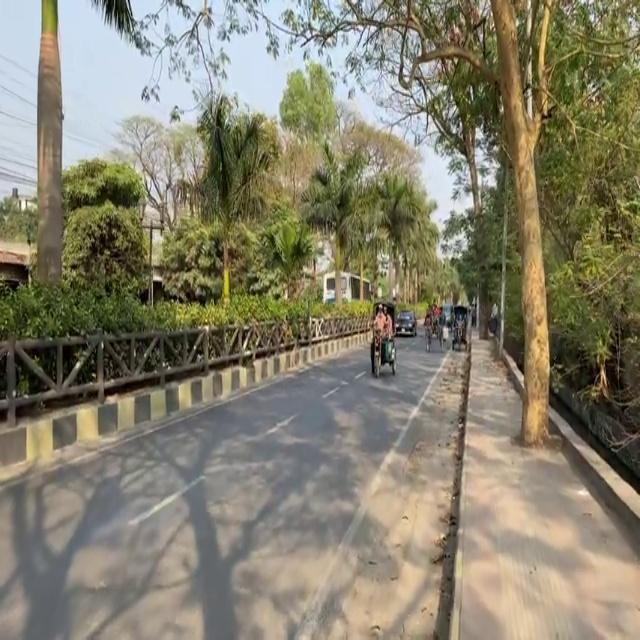Construction-barrier: (431, 326, 473, 639)
Fallen-tree: (369, 326, 397, 377), (422, 311, 444, 352)
Garbage-bin: (371, 303, 395, 364)
Light-pole: (485, 0, 551, 445), (34, 0, 64, 287)
Pole: (0, 290, 385, 472)
Pothole: (450, 320, 639, 639)
